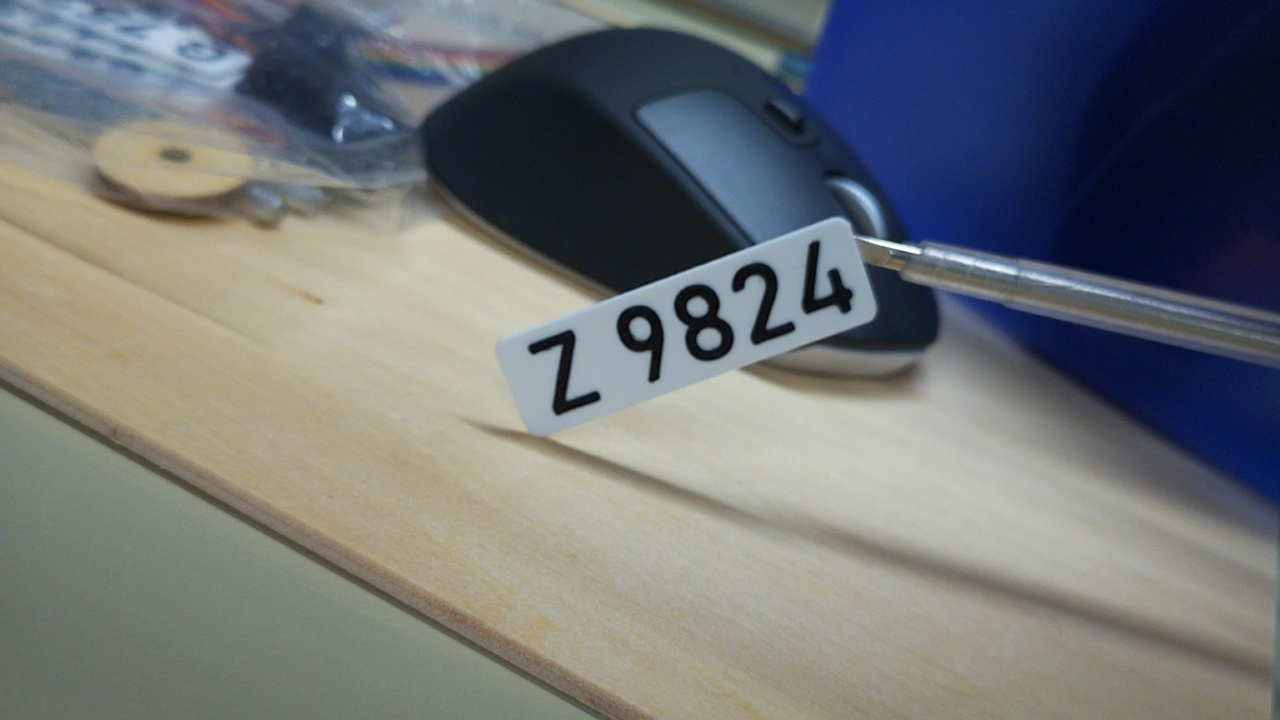license_plate: (492, 214, 880, 441)
